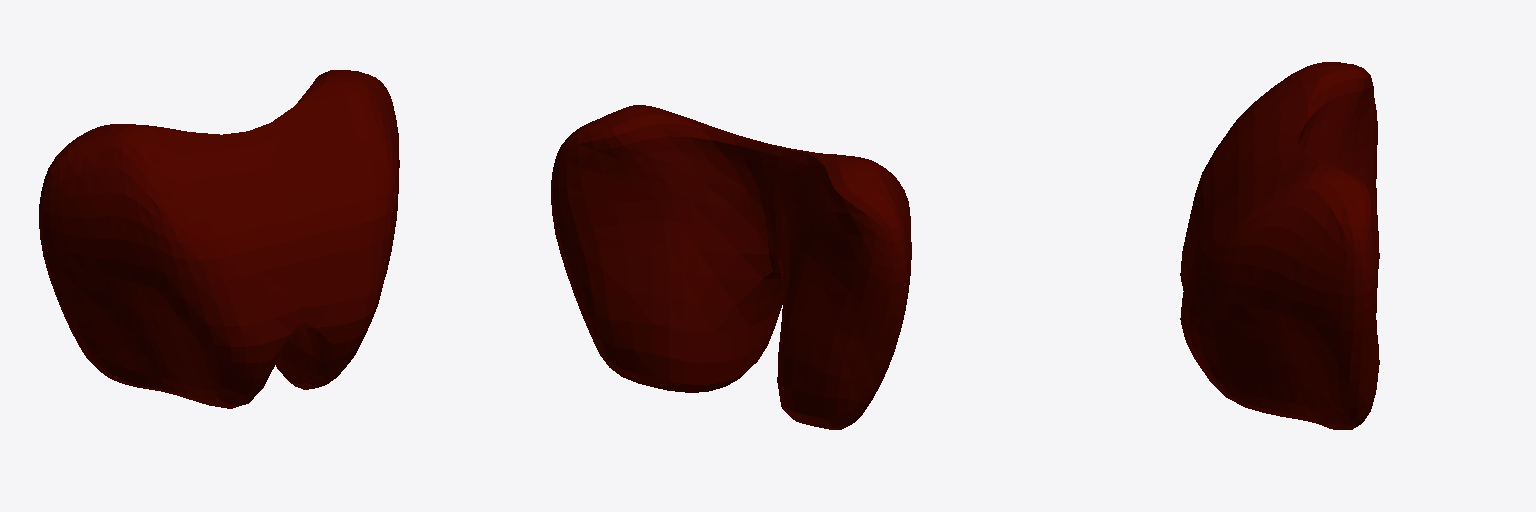
3 renders of one model, left to right at view 1: azimuth 30°, elevation 25°; view 2: azimuth 150°, elevation 25°; view 3: azimuth 270°, elevation 25°, orthographic.
Parts seen in each view (by area): view 1: amygdala.002; view 2: amygdala.002; view 3: amygdala.002.
Boxes of the visible parts, x1=… form: amygdala.002: x1=39, y1=70, x2=399, y2=408; amygdala.002: x1=551, y1=105, x2=911, y2=429; amygdala.002: x1=1180, y1=62, x2=1379, y2=429.
Bounding box in the file's own units: 2.34 × 1.74 × 1.15.